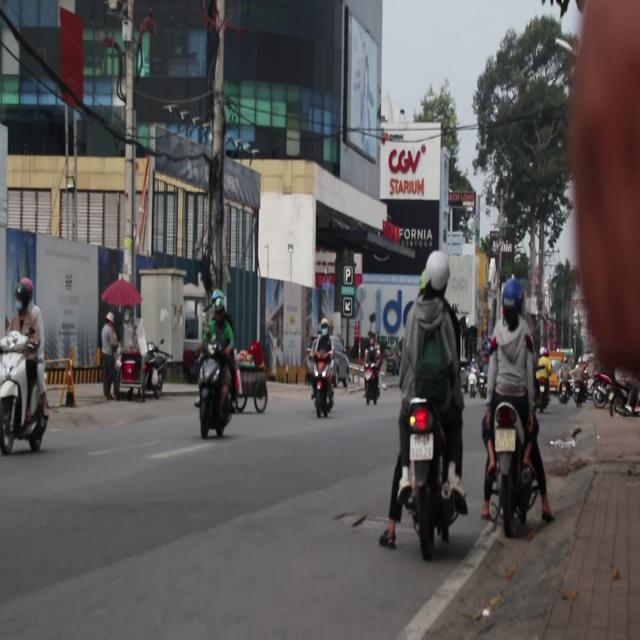motorbike: (400, 382, 460, 568), (483, 388, 552, 532), (0, 330, 48, 456), (195, 348, 238, 440), (306, 350, 342, 424), (142, 345, 170, 400), (610, 371, 640, 419), (590, 375, 612, 410), (538, 379, 552, 413), (574, 382, 590, 408), (558, 382, 574, 406)
